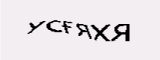К: (55, 22, 71, 39)
Л: (89, 18, 114, 47)
П: (119, 16, 140, 48)
Щ: (25, 19, 54, 42), (69, 22, 92, 46)
